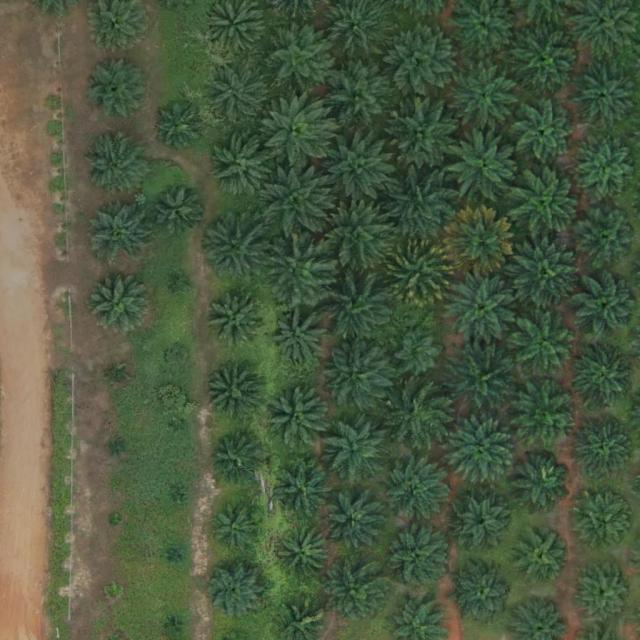Healthy: (325, 62, 396, 133), (446, 271, 517, 342), (446, 420, 517, 491), (200, 213, 271, 284), (262, 99, 332, 170), (263, 168, 333, 239), (390, 96, 460, 167), (389, 170, 460, 240), (451, 65, 521, 136), (510, 312, 580, 383), (444, 345, 515, 415), (322, 275, 392, 346), (324, 339, 394, 410), (265, 235, 335, 306), (201, 556, 271, 627), (263, 24, 333, 94), (327, 132, 397, 202), (388, 25, 458, 95), (449, 132, 519, 202), (513, 28, 583, 98), (514, 168, 584, 238), (509, 239, 579, 309), (320, 204, 390, 274), (575, 207, 638, 270), (574, 275, 637, 338), (574, 416, 637, 479), (389, 384, 452, 447), (87, 270, 150, 333), (454, 564, 517, 627), (575, 562, 638, 625), (84, 133, 146, 196), (210, 66, 273, 128), (514, 103, 576, 166), (573, 348, 635, 411), (517, 381, 579, 444), (324, 419, 386, 482), (267, 388, 329, 451), (272, 458, 334, 521), (89, 203, 151, 266), (326, 562, 388, 625), (385, 528, 447, 591), (87, 59, 149, 121), (212, 137, 274, 199), (510, 451, 572, 513), (385, 460, 447, 522), (579, 143, 634, 198), (577, 498, 632, 553), (453, 497, 508, 552), (210, 291, 265, 346), (210, 433, 265, 488), (278, 528, 333, 583), (328, 498, 382, 553), (273, 311, 327, 366), (206, 367, 260, 422), (152, 184, 206, 239), (517, 529, 571, 584), (156, 103, 203, 151), (395, 328, 442, 376)
Small: (212, 500, 267, 556), (167, 348, 191, 372), (175, 276, 191, 292), (169, 492, 185, 508), (110, 440, 126, 456), (105, 584, 121, 600), (110, 370, 126, 385), (108, 514, 123, 530), (165, 617, 181, 632), (173, 420, 188, 435), (170, 548, 185, 563)
Yellow: (445, 208, 515, 278), (384, 239, 454, 309)
